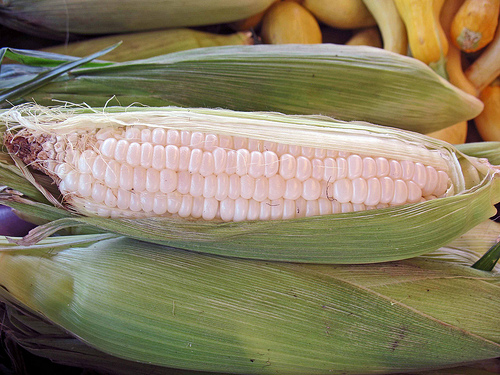corn: (3, 95, 499, 266), (0, 232, 499, 374), (0, 44, 484, 134), (0, 0, 275, 47)
